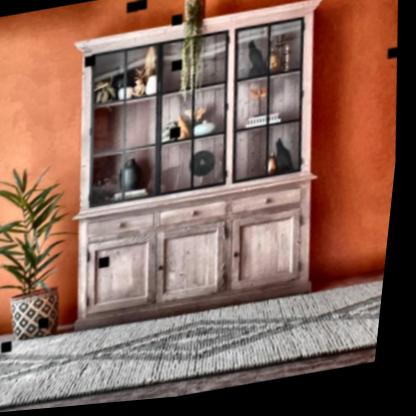Cupboard: (55, 4, 341, 334)
